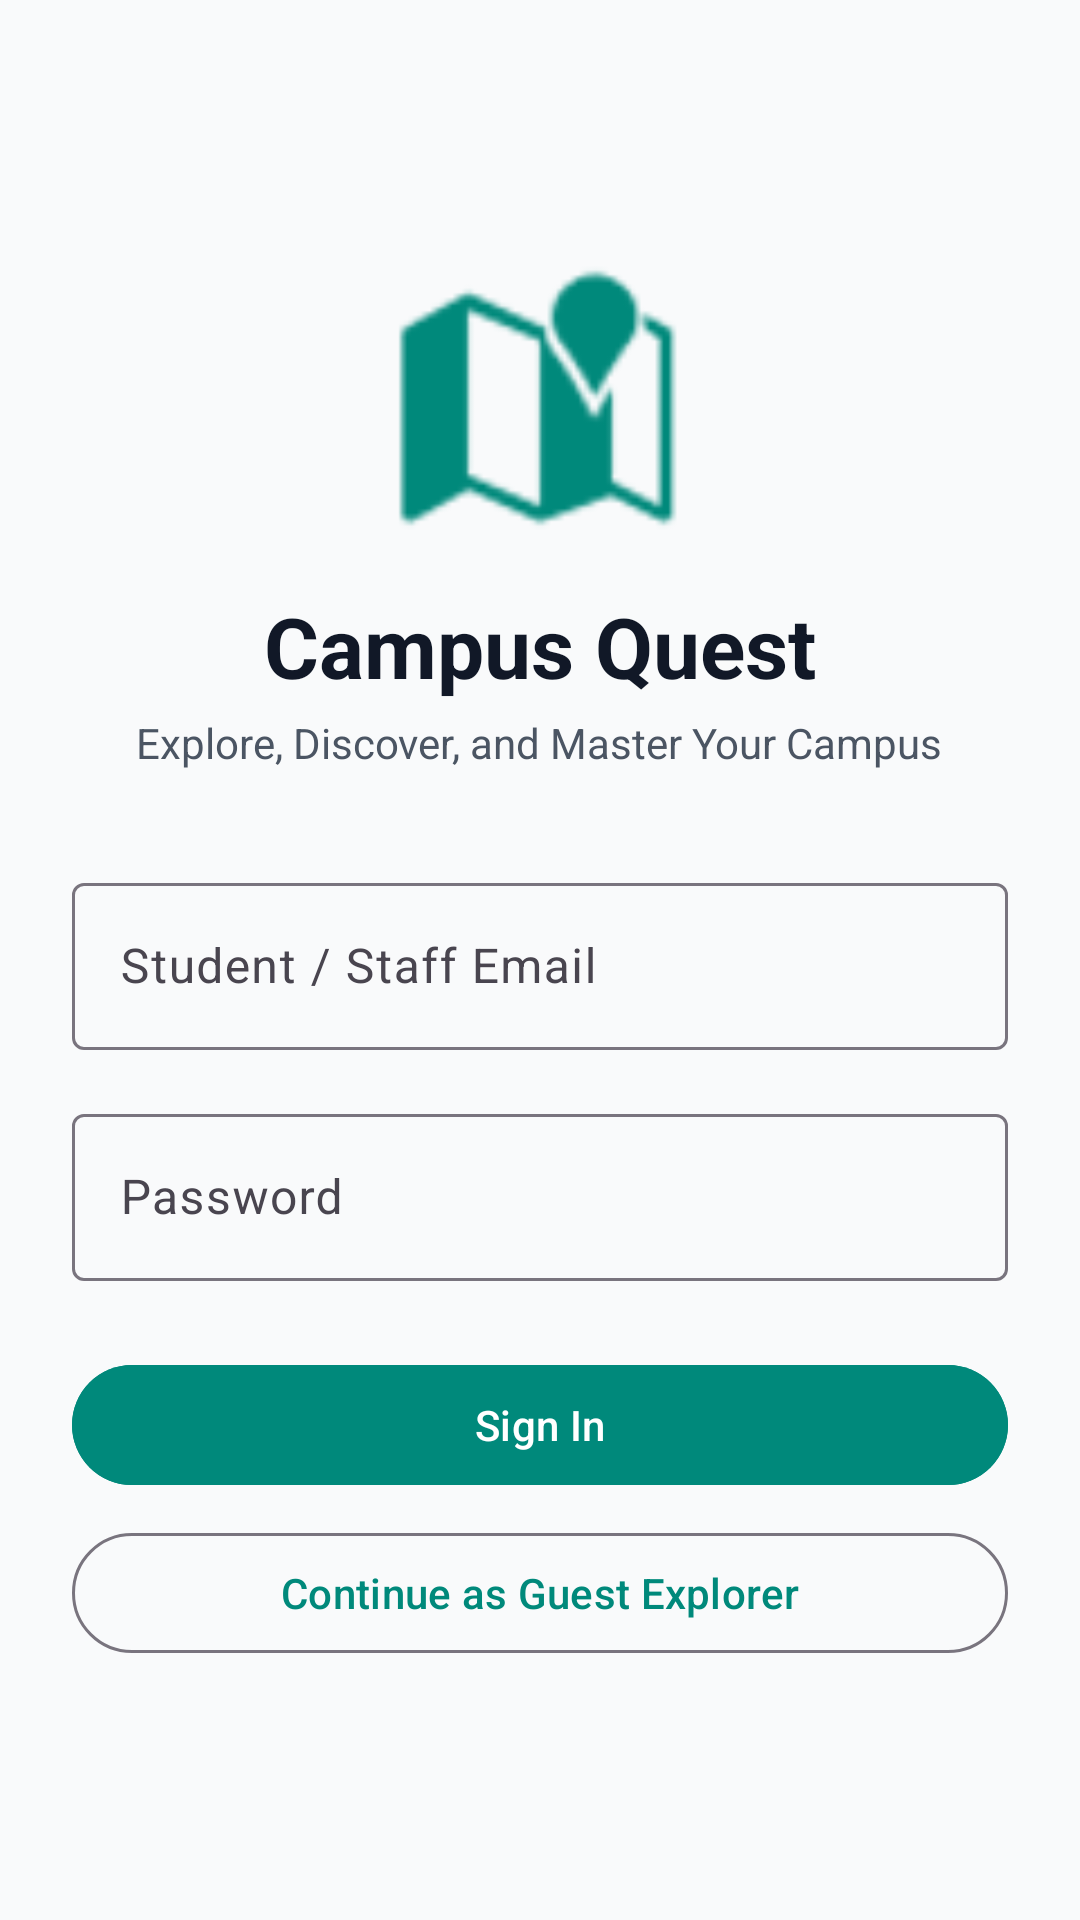

Where to tap for icons on this 1080px×1920px app screen, as (x=x, y=y):
map: (x=537, y=397)
